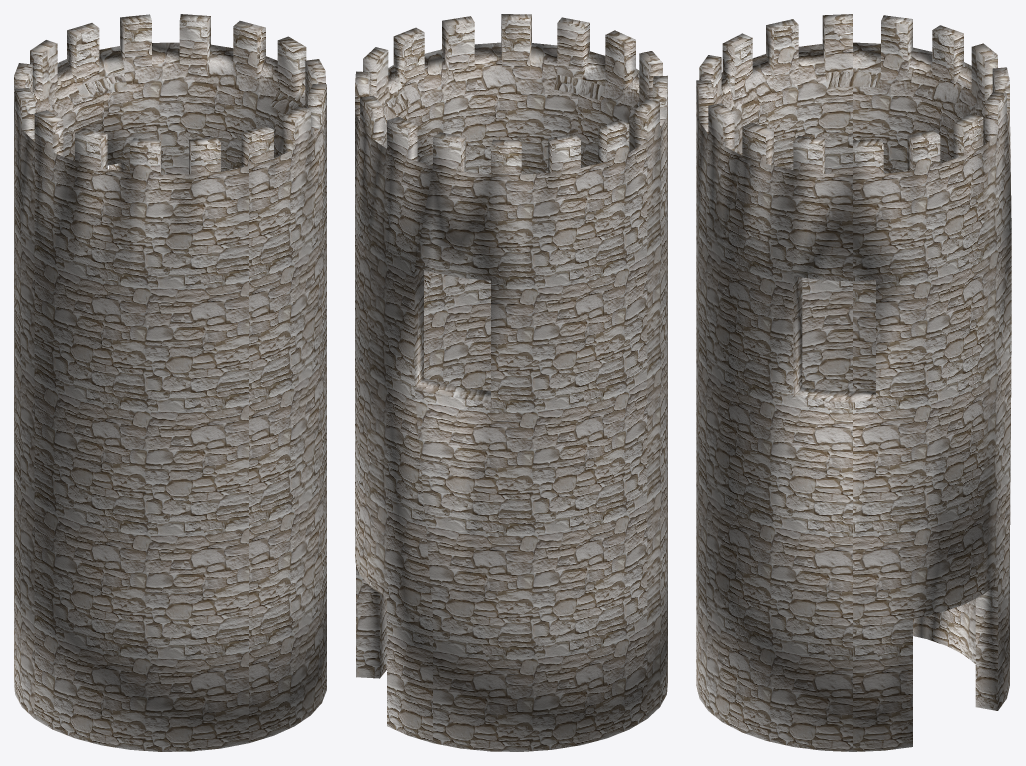
The model's file is tower_1.fbx.
The picture shows the model from 3 angles, left to right: view 1: azimuth 30°, elevation 25°; view 2: azimuth 150°, elevation 25°; view 3: azimuth 270°, elevation 25°; orthographic projection.
Visible parts, largest first — view 1: Cylinder.002; view 2: Cylinder.002; view 3: Cylinder.002.
Boxes of the visible parts, left/top/right/bottom form: Cylinder.002: left=14, top=14, right=326, bottom=751; Cylinder.002: left=355, top=14, right=667, bottom=751; Cylinder.002: left=696, top=14, right=1011, bottom=751.
Bounding box in the file's own units: 650 × 1385 × 653.
Materials: 2 (2 with a texture image).
